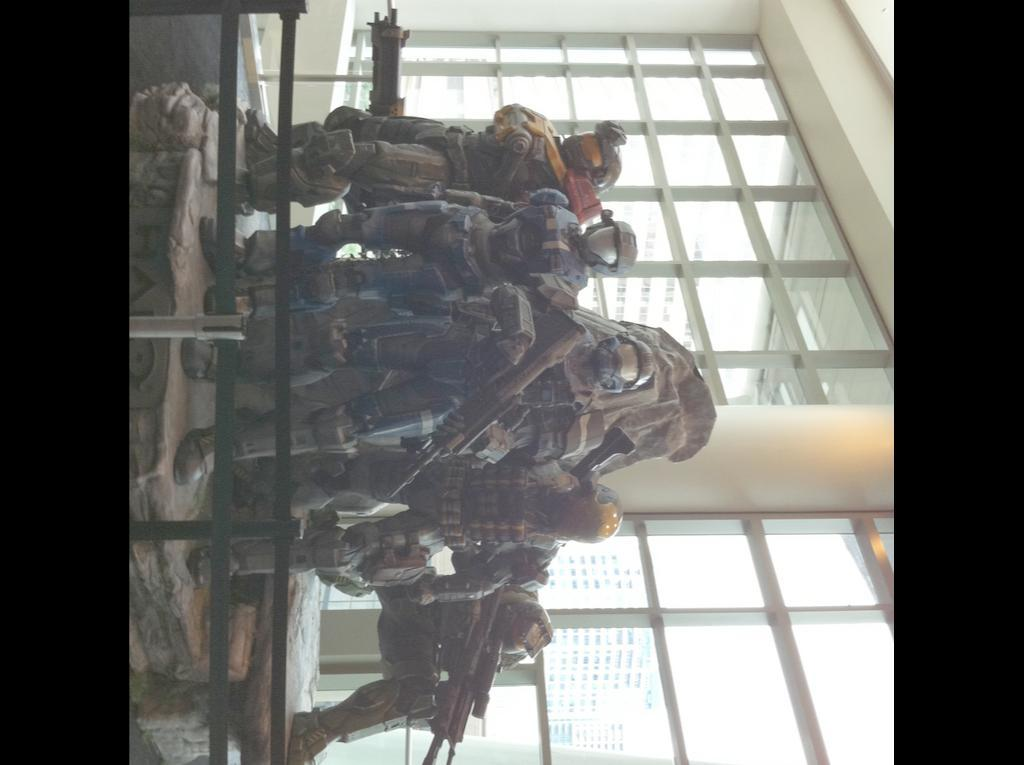gun: (382, 328, 569, 502), (397, 585, 517, 765)
